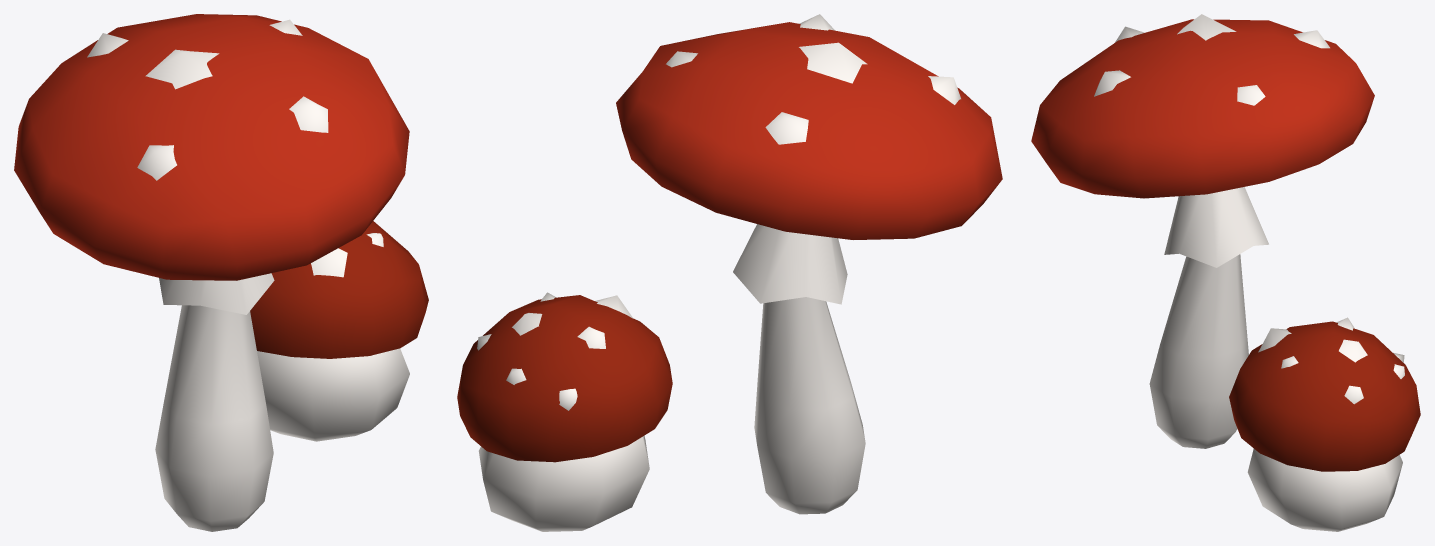
File: Fly_Agaric_Group_1.fbx
3 renders of one model, left to right at view 1: azimuth 30°, elevation 25°; view 2: azimuth 150°, elevation 25°; view 3: azimuth 270°, elevation 25°, orthographic. The views are drawn at different scales.
Visible parts, largest first — view 1: Fly_Agaric_Group_1; view 2: Fly_Agaric_Group_1; view 3: Fly_Agaric_Group_1.
Part boxes in pixels (left/top/right/bottom): Fly_Agaric_Group_1: left=14, top=14, right=428, bottom=531; Fly_Agaric_Group_1: left=457, top=14, right=1002, bottom=531; Fly_Agaric_Group_1: left=1031, top=14, right=1420, bottom=531.
Bounding box in the file's own units: 37.56 × 38.07 × 32.79.
1 material, 1 textured.
